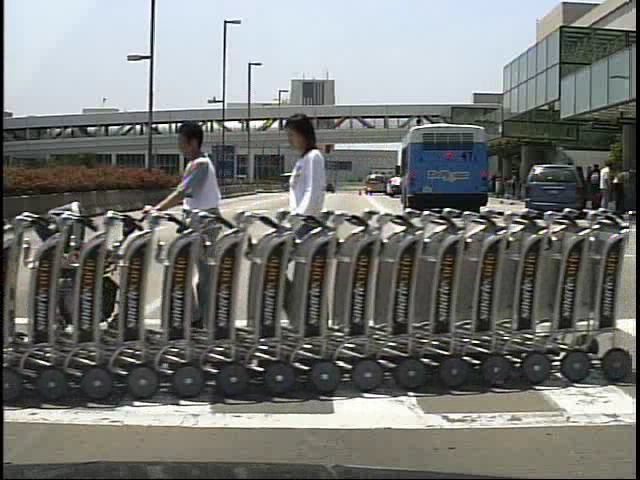person: (150, 120, 232, 340), (275, 115, 350, 349), (596, 160, 617, 211), (587, 164, 604, 212)
